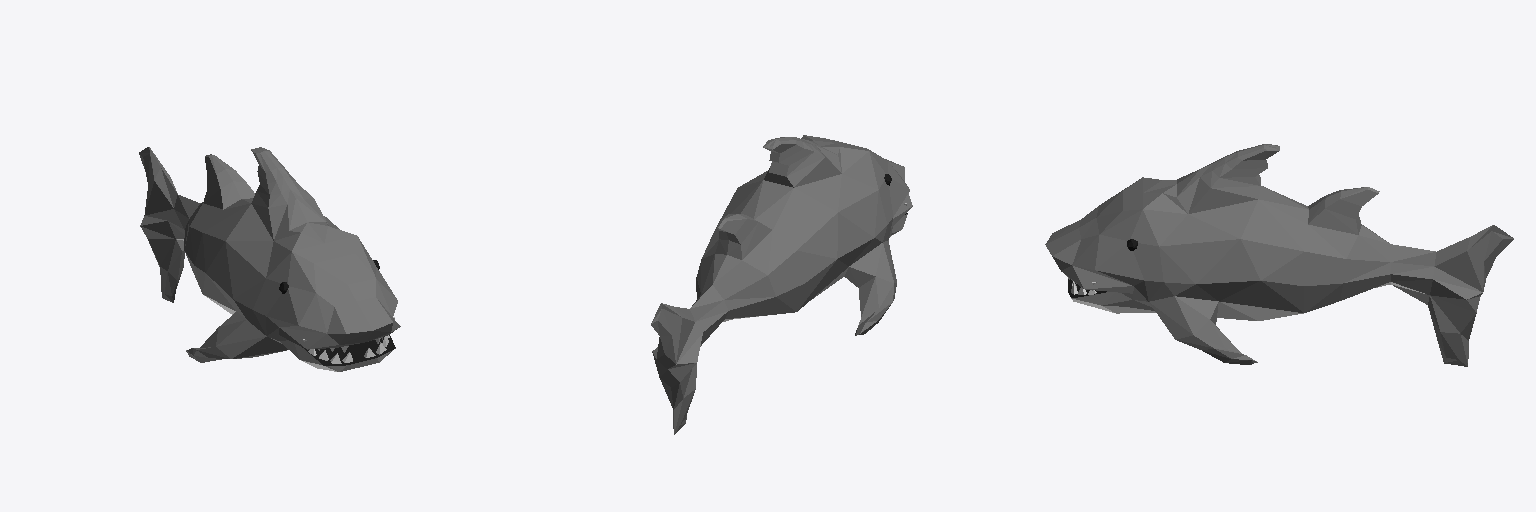
Rendered from NOVELO_SHARK.obj.
The picture shows the model from 3 angles: view 1: azimuth 30°, elevation 25°; view 2: azimuth 150°, elevation 25°; view 3: azimuth 270°, elevation 25°; orthographic projection.
Visible parts, largest first — view 1: Symmetry.1; view 2: Symmetry.1; view 3: Symmetry.1.
Part boxes in pixels (bbox=[...]): Symmetry.1: bbox=[139, 147, 400, 371]; Symmetry.1: bbox=[651, 135, 912, 434]; Symmetry.1: bbox=[1045, 144, 1513, 366].
Size of the model in its own units: 205 by 236 by 453.